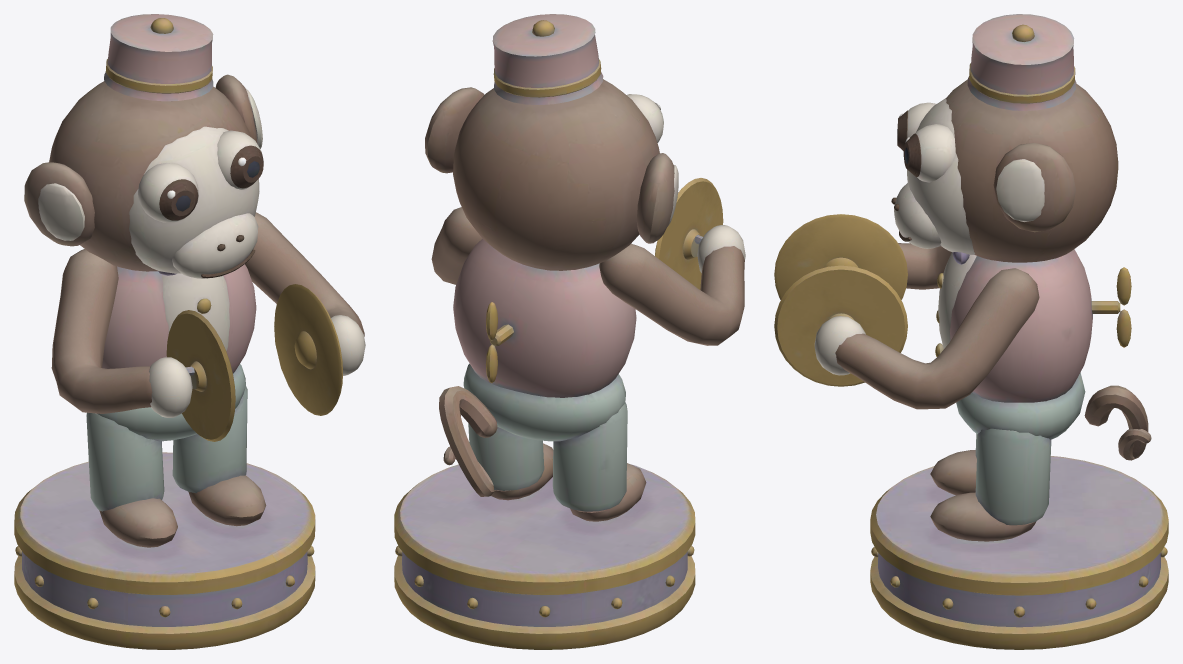
Rendered from mono_platillos.glb.
The picture shows the model from 3 angles, left to right: view 1: azimuth 30°, elevation 25°; view 2: azimuth 150°, elevation 25°; view 3: azimuth 270°, elevation 25°; orthographic projection.
Visible parts, largest first — view 1: cymbal-monkey_arm_l; view 2: cymbal-monkey_arm_l; view 3: cymbal-monkey_arm_l.
Part boxes in pixels (x1,y1,x2,y2): cymbal-monkey_arm_l: (14,14,365,649); cymbal-monkey_arm_l: (394,14,745,649); cymbal-monkey_arm_l: (774,14,1168,649).
Bounding box in the file's own units: 0.1729 × 0.32 × 0.2035.
3 materials, 3 textured.
